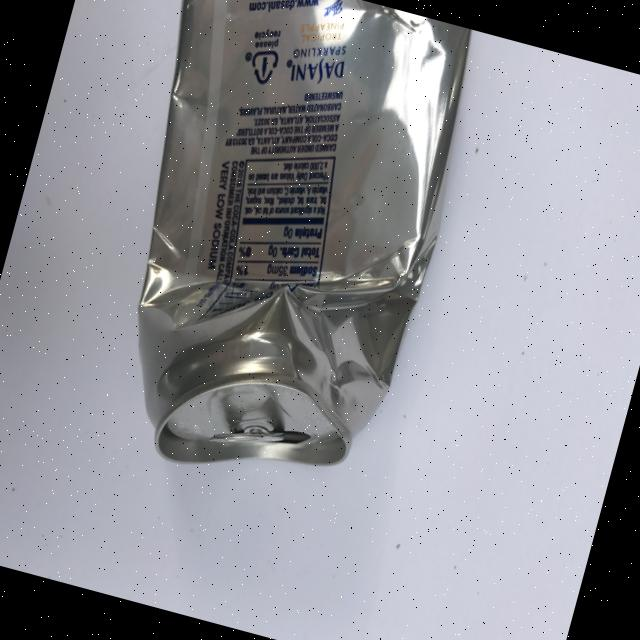metal: (57, 0, 491, 512)
